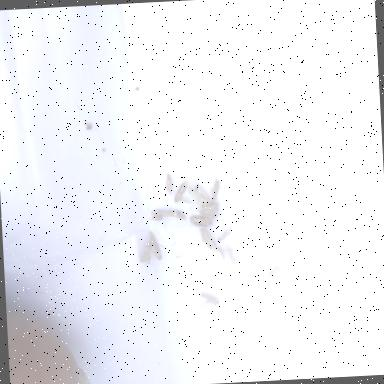pbw: (192, 293, 222, 315), (138, 241, 156, 266), (146, 232, 162, 258), (171, 183, 187, 207), (199, 232, 216, 252), (261, 264, 282, 280), (186, 214, 209, 228), (217, 226, 232, 246), (160, 174, 172, 196), (200, 203, 219, 216), (194, 185, 206, 204), (225, 247, 236, 266), (190, 188, 199, 207), (172, 209, 184, 221), (151, 210, 170, 216), (148, 213, 162, 220)
